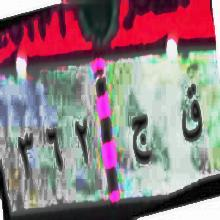2: (71, 107, 92, 169)
3: (17, 128, 35, 184)
6: (46, 115, 64, 174)
jeem: (126, 109, 156, 173)
qaaf: (180, 76, 202, 160)
